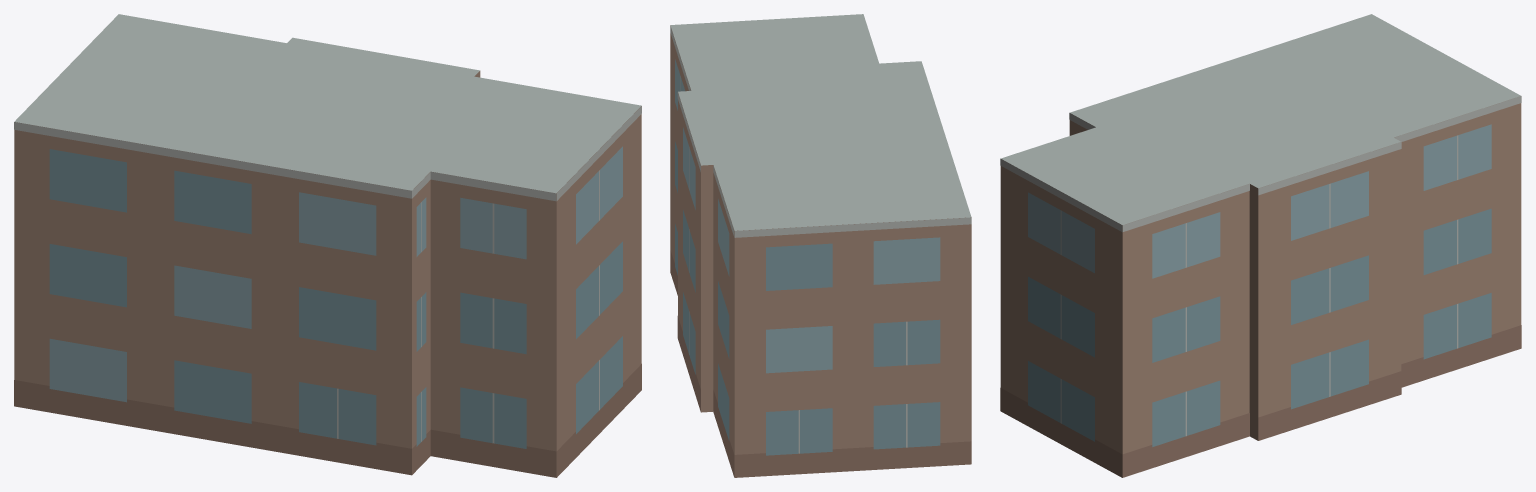
The model's file is survey-upis-33005943.glb.
3 renders of one model, left to right at view 1: azimuth 30°, elevation 25°; view 2: azimuth 150°, elevation 25°; view 3: azimuth 270°, elevation 25°, orthographic. The views are drawn at different scales.
Visible parts, largest first — view 1: survey-upis-33005943.tmp; view 2: survey-upis-33005943.tmp; view 3: survey-upis-33005943.tmp.
Part boxes in pixels (x1,y1,x2,y2): survey-upis-33005943.tmp: (14,14,641,477); survey-upis-33005943.tmp: (670,14,971,477); survey-upis-33005943.tmp: (1000,14,1521,477).
Size of the model in its own units: 15.55 by 8.67 by 16.2.
